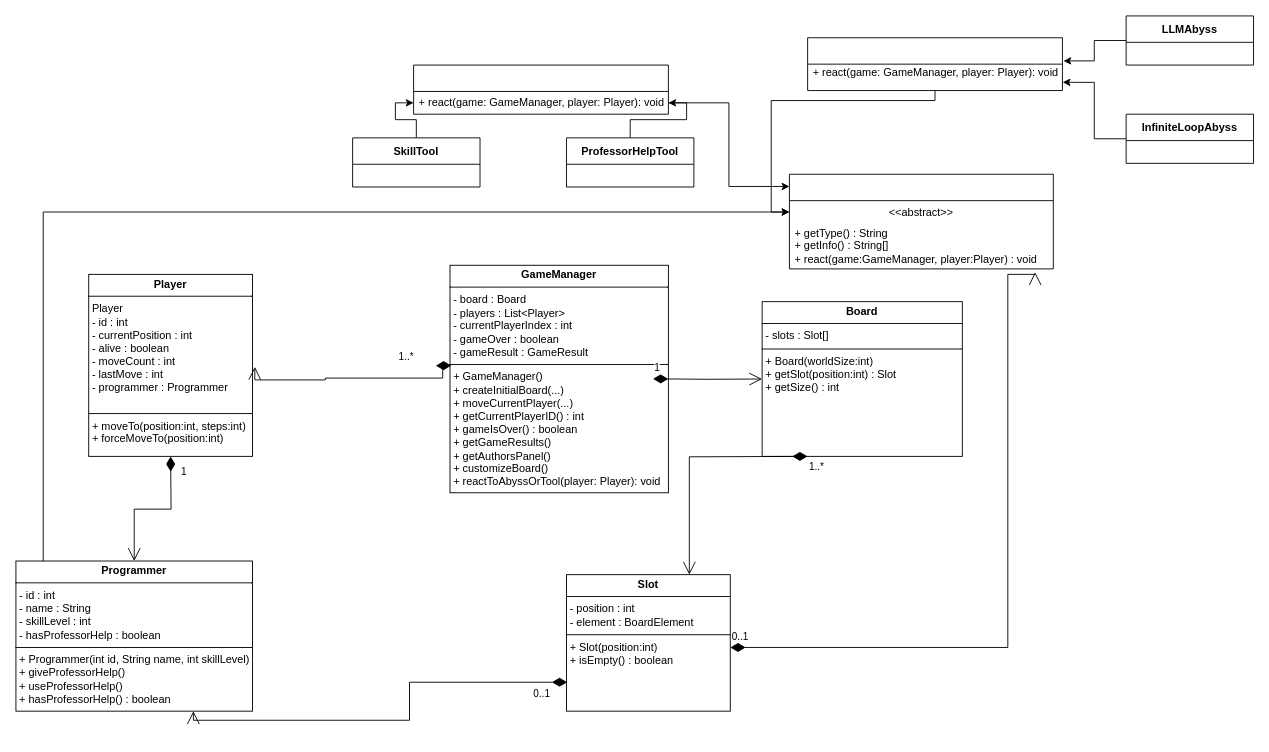
Image size: 1269x752. Some labels were removed from this diagram. The box of each missing label's shape, as (x1, y1, x2, y2) in pixels:
Abyss: (807, 37, 1062, 91)
BoardElement: (789, 173, 1053, 269)
Tool: (413, 64, 668, 114)
